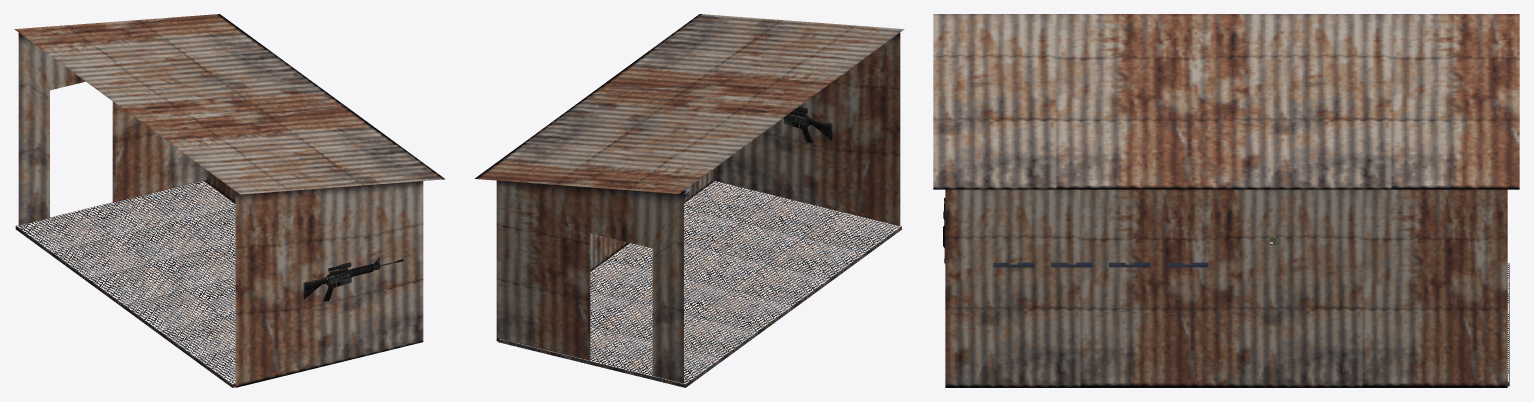
The model's file is armory.glb.
3 renders of one model, left to right at view 1: azimuth 30°, elevation 25°; view 2: azimuth 150°, elevation 25°; view 3: azimuth 270°, elevation 25°, orthographic. The views are drawn at different scales.
Parts seen in each view (by area): view 1: Leanto B, Gantry Floor A, M4A1; view 2: Leanto B, Gantry Floor A, M4A1; view 3: Leanto B, slide.
Boxes of the visible parts, x1=… form: Leanto B: x1=14, y1=14, x2=445, y2=387; Gantry Floor A: x1=15, y1=180, x2=235, y2=387; M4A1: x1=303, y1=256, x2=403, y2=301; Leanto B: x1=474, y1=14, x2=904, y2=383; Gantry Floor A: x1=498, y1=180, x2=901, y2=387; M4A1: x1=783, y1=106, x2=832, y2=142; Leanto B: x1=933, y1=14, x2=1519, y2=387; slide: x1=993, y1=262, x2=1208, y2=267.
Size of the model in its own units: 3.32 by 3 by 6.25.
6 materials, 6 textured.
